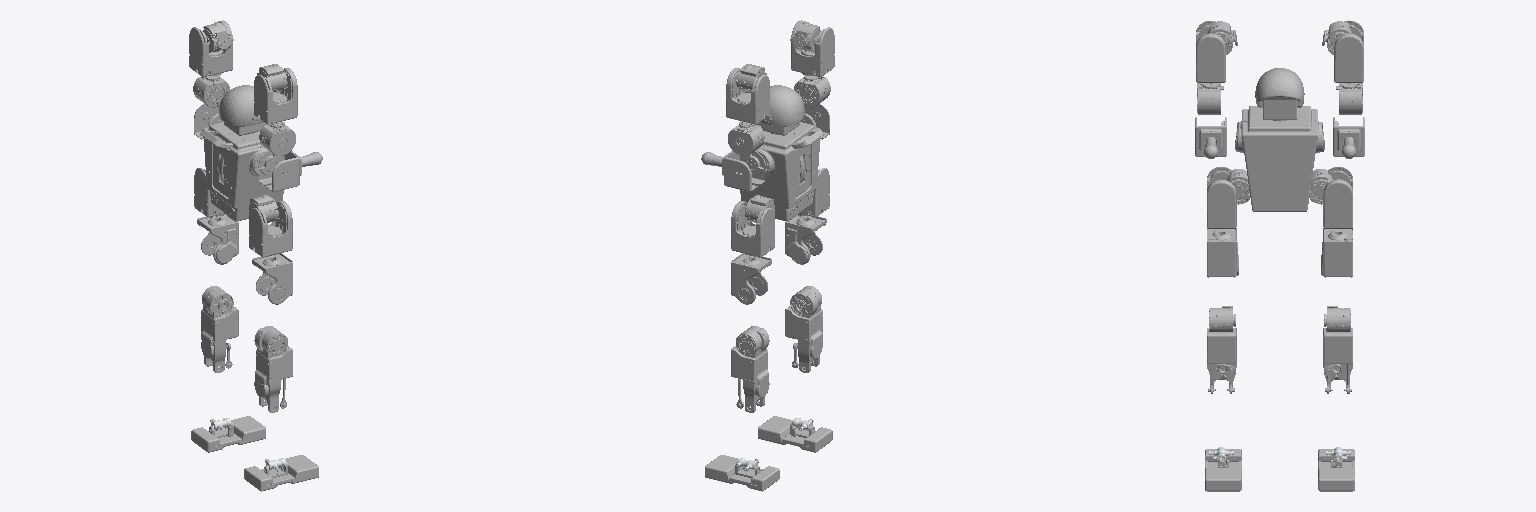
--- Render facts (derived) ---
The picture shows the robot from 3 angles, left to right: view 1: azimuth 30°, elevation 25°; view 2: azimuth 150°, elevation 25°; view 3: azimuth 270°, elevation 25°; orthographic projection.
Robot: lus2 — 29 links, 28 joints (28 revolute); root link pelvis; default pose: all joints at 0.
Links seen in each view (by area): view 1: torso_link, right_knee_link, left_knee_link, right_hip_roll_link, right_shoulder_roll_link, right_elbow_link, left_ankle_roll_link, right_hip_yaw_link, right_ankle_roll_link, left_hip_yaw_link, left_shoulder_roll_link, right_shoulder_yaw_link (+4 smaller); view 2: torso_link, left_knee_link, right_knee_link, left_hip_roll_link, left_shoulder_roll_link, left_elbow_link, right_ankle_roll_link, left_hip_yaw_link, left_ankle_roll_link, right_hip_yaw_link, right_shoulder_roll_link, left_shoulder_yaw_link (+4 smaller); view 3: torso_link, left_knee_link, right_knee_link, left_hip_roll_link, right_hip_roll_link, left_shoulder_roll_link, right_shoulder_roll_link, right_hip_yaw_link, left_hip_yaw_link, right_ankle_roll_link, left_ankle_roll_link, right_elbow_link (+3 smaller).
Link boxes in pixels (bbox=[...]): torso_link: bbox=[200, 85, 283, 221]; right_knee_link: bbox=[254, 326, 292, 412]; left_knee_link: bbox=[201, 286, 238, 372]; right_hip_roll_link: bbox=[249, 201, 292, 257]; right_shoulder_roll_link: bbox=[254, 68, 297, 124]; right_elbow_link: bbox=[259, 151, 322, 191]; left_ankle_roll_link: bbox=[191, 416, 265, 452]; right_hip_yaw_link: bbox=[252, 253, 292, 304]; right_ankle_roll_link: bbox=[244, 455, 318, 491]; left_hip_yaw_link: bbox=[197, 215, 238, 264]; left_shoulder_roll_link: bbox=[189, 20, 232, 76]; right_shoulder_yaw_link: bbox=[259, 121, 295, 155]; torso_link: bbox=[740, 85, 823, 220]; left_knee_link: bbox=[731, 326, 769, 412]; right_knee_link: bbox=[785, 286, 822, 372]; left_hip_roll_link: bbox=[731, 201, 774, 257]; left_shoulder_roll_link: bbox=[726, 68, 769, 124]; left_elbow_link: bbox=[701, 151, 764, 191]; right_ankle_roll_link: bbox=[758, 416, 832, 452]; left_hip_yaw_link: bbox=[731, 253, 771, 304]; left_ankle_roll_link: bbox=[705, 455, 779, 491]; right_hip_yaw_link: bbox=[785, 214, 826, 264]; right_shoulder_roll_link: bbox=[791, 20, 834, 76]; left_shoulder_yaw_link: bbox=[728, 121, 764, 155]; torso_link: bbox=[1235, 68, 1324, 211]; left_knee_link: bbox=[1323, 306, 1352, 393]; right_knee_link: bbox=[1207, 306, 1236, 393]; left_hip_roll_link: bbox=[1323, 167, 1352, 228]; right_hip_roll_link: bbox=[1207, 167, 1236, 228]; left_shoulder_roll_link: bbox=[1334, 20, 1363, 82]; right_shoulder_roll_link: bbox=[1196, 21, 1225, 82]; right_hip_yaw_link: bbox=[1207, 228, 1238, 277]; left_hip_yaw_link: bbox=[1321, 228, 1352, 277]; right_ankle_roll_link: bbox=[1205, 449, 1241, 491]; left_ankle_roll_link: bbox=[1318, 449, 1354, 491]; right_elbow_link: bbox=[1195, 117, 1226, 158].
Bounding box of the posed robot: 0.2789 × 0.4659 × 1.35 m (x, y, z).
Meshes: 29 distinct files referenced, 21 mesh visuals loaded (21 binary STL); not drawn: 8 (reference not matched to a file when rendering).

URDF robot description (lus2):
<?xml version="1.0" encoding="utf-8"?>
<!-- This URDF was automatically created by SolidWorks to URDF Exporter! Originally created by Stephen Brawner ([email redacted]) 
     Commit Version: 1.6.0-4-g7f85cfe  Build Version: 1.6.7995.38578
     For more information, please see http://wiki.ros.org/sw_urdf_exporter -->
<robot name="lus2">
  <mujoco>
        <compiler meshdir="../meshes" discardvisual="false" />
  </mujoco>
  
  <!-- <link name="base">
    <inertial>
      <origin xyz="0 0 0" rpy="0 0 0" />
      <mass value="0.0001" />
      <inertia
        ixx="0.0000000"
        ixy="0.0000000"
        ixz="0.0000000"
        iyy="0.0000000"
        iyz="0.0000000"
        izz="0.0000000" />
    </inertial>
    <visual>
      <origin xyz="0 0 0" rpy="0 0 0" />
      <geometry>
        <box size = "0.001 0.001 0.001"/>
      </geometry>
      <material name="a">
        <color rgba="0.752941176470588 0.752941176470588 0.752941176470588 1" />
      </material>
    </visual>
    <collision>
      <origin xyz="0 0 0" rpy="0 0 0" />
      <geometry>
        <box size = "0.001 0.001 0.001"/>
      </geometry>
    </collision>
  </link>

  <joint name="floating_base_joint" type="fixed">
    <origin xyz="0 0 0" rpy="0 0 0" />
    <parent link="base" />
    <child link="pelvis" />
  </joint> -->

  <link name="pelvis">
    <inertial>
      <origin xyz="-3.1659855E-03  0.0000000 -1.0930236E-01" rpy="0 0 0" />
      <mass value="6.7964049" />
      <inertia
        ixx="3.9641975E-02"
        ixy="0.0000000"
        ixz="1.2568204E-03"
        iyy="3.5762219E-02"
        iyz="0.0000000"
        izz="2.2011165E-02" />
    </inertial>
    <visual>
      <origin xyz="0 0 0" rpy="0 0 0" />
      <geometry>
        <mesh filename="package://lus2/meshes/pelvis.STL" />
      </geometry>
      <material name="a">
        <color rgba="0.752941176470588 0.752941176470588 0.752941176470588 1" />
      </material>
    </visual>
    <!-- <collision>
      <origin xyz="0 0 0" rpy="0 0 0" />
      <geometry>
        <mesh filename="package://lus2/meshes/pelvis.STL" />
      </geometry>
    </collision> -->
    <collision>
      <origin xyz="0 0 -0.1" rpy="0 0 0" />
      <geometry>
        <cylinder radius="0.0572" length="0.1883" />
      </geometry>
    </collision>
  </link>

  <link name="left_hip_pitch_link">
    <inertial>
      <origin xyz="-2.0168256E-02  8.2216101E-02  0.0000000" rpy="0 0 0" />
      <mass value="2.4277335" />
      <inertia
        ixx="6.1432167E-03"
        ixy="4.8775061E-04"
        ixz="0.0000000"
        iyy="3.6201357E-03"
        iyz="0.0000000"
        izz="5.1618570E-03" />
    </inertial>
    <visual>
      <origin xyz="0 0 0" rpy="0 0 0" />
      <geometry>
        <mesh filename="package://lus2/meshes/left_hip_pitch_link.STL" />
      </geometry>
      <material name="a">
        <color rgba="0.752941176470588 0.752941176470588 0.752941176470588 1" />
      </material>
    </visual>
    <collision>
      <origin xyz="0 0 0" rpy="0 0 0" />
      <geometry>
        <mesh filename="package://lus2/meshes/left_hip_pitch_link.STL" />
      </geometry>
    </collision>
  </link>

  <joint name="left_hip_pitch_joint" type="revolute">
    <origin xyz="0 0.068 -0.156" rpy="0 0 0" />
    <parent link="pelvis" />
    <child link="left_hip_pitch_link" />
    <axis xyz="0 1 0" />
    <limit lower="-2.617" upper="2.617" effort="300" velocity="12" />
  </joint>

  <link name="left_hip_roll_link">
    <inertial>
      <origin xyz="-2.3116200E-03 -3.6364046E-04 -8.1422005E-02" rpy="0 0 0" />
      <mass value="3.1551632" />
      <inertia
        ixx="1.2134241E-02"
        ixy="-4.1927788E-05"
        ixz="-1.9137034E-03"
        iyy="1.1479866E-02"
        iyz="-1.2177975E-04"
        izz="7.1752202E-03" />
    </inertial>
    <visual>
      <origin xyz="0 0 0" rpy="0 0 0" />
      <geometry>
        <mesh filename="package://lus2/meshes/left_hip_roll_link.STL" />
      </geometry>
      <material name="a">
        <color rgba="0.752941176470588 0.752941176470588 0.752941176470588 1" />
      </material>
    </visual>
    <collision>
      <origin xyz="0 0 0" rpy="0 0 0" />
      <geometry>
        <mesh filename="package://lus2/meshes/left_hip_roll_link.STL" />
      </geometry>
    </collision>
  </link>

  <joint name="left_hip_roll_joint" type="revolute">
    <origin xyz="0 0.092 0" rpy="0 0 0" />
    <parent link="left_hip_pitch_link" />
    <child link="left_hip_roll_link" />
    <axis xyz="1 0 0" />
    <limit lower="-0.25" upper="2.8" effort="300" velocity="12" />
  </joint>

  <link name="left_hip_yaw_link">
    <inertial>
      <origin xyz="6.4280485E-03 -3.5846370E-03 -1.8449587E-01" rpy="0 0 0" />
      <mass value="3.3522325" />
      <inertia
        ixx="3.8105084E-02"
        ixy="-7.7153373E-05"
        ixz="-7.3176284E-04"
        iyy="3.9597910E-02"
        iyz="-9.0739735E-04"
        izz="7.1960830E-03" />
    </inertial>
    <visual>
      <origin xyz="0 0 0" rpy="0 0 0" />
      <geometry>
        <mesh filename="package://lus2/meshes/left_hip_yaw_link.STL" />
      </geometry>
      <material name="a">
        <color rgba="0.752941176470588 0.752941176470588 0.752941176470588 1" />
      </material>
    </visual>
    <collision>
      <origin xyz="0 0 0" rpy="0 0 0" />
      <geometry>
        <mesh filename="package://lus2/meshes/left_hip_yaw_link.STL" />
      </geometry>
    </collision>
  </link>

  <joint name="left_hip_yaw_joint" type="revolute">
    <origin xyz="0 0 -0.1395" rpy="0 0 0" />
    <parent link="left_hip_roll_link" />
    <child link="left_hip_yaw_link" />
    <axis xyz="0 0 1" />
    <limit lower="-1.2" upper="2.6" effort="300" velocity="12" />
  </joint>

  <link name="left_knee_link">
    <inertial>
      <origin xyz="9.7804057e-03 -1.2159820e-03 -1.1000733e-01" rpy="0 0 0" />
      <mass value="5.3828222" />
      <inertia
        ixx="7.1014736e-02"
        ixy="-6.3321397e-05"
        ixz="9.4868042e-04"
        iyy="7.2059618e-02"
        iyz="1.0601703e-03"
        izz="8.1731788e-03" />
    </inertial>
    <visual>
      <origin xyz="0 0 0" rpy="0 0 0" />
      <geometry>
        <mesh filename="package://lus2/meshes/left_knee_link.STL" />
      </geometry>
      <material name="a">
        <color rgba="0.752941176470588 0.752941176470588 0.752941176470588 1" />
      </material>
    </visual>
    <collision>
      <origin xyz="0 0 0" rpy="0 0 0" />
      <geometry>
        <mesh filename="package://lus2/meshes/left_knee_link.STL" />
      </geometry>
    </collision>
  </link>

  <joint name="left_knee_joint" type="revolute">
    <origin xyz="0 0 -0.26" rpy="0 0 0" />
    <parent link="left_hip_yaw_link" />
    <child link="left_knee_link" />
    <axis xyz="0 1 0" />
    <limit lower="0.0" upper="2.27" effort="300" velocity="12" />
  </joint>

  <link name="left_ankle_pitch_link">
    <inertial>
      <origin xyz="-3.1002626e-04  1.1061714e-05 -4.2515953e-03" rpy="0 0 0" />
      <mass value="1.6375855e-01" />
      <inertia
        ixx="5.5690573e-05"
        ixy="-2.3322493e-10"
        ixz="-3.1117387e-07"
        iyy="2.3118959e-05"
        iyz="4.0748259e-10"
        izz="5.5144716e-05" />
    </inertial>
    <visual>
      <origin xyz="0 0 0" rpy="0 0 0" />
      <geometry>
        <mesh filename="package://lus2/meshes/left_ankle_pitch_link.STL" />
      </geometry>
      <material name="a">
        <color rgba="0.898039215686275 0.917647058823529 0.929411764705882 1" />
      </material>
    </visual>
    <collision>
      <origin xyz="0 0 0" rpy="0 0 0" />
      <geometry>
        <mesh filename="package://lus2/meshes/left_ankle_pitch_link.STL" />
      </geometry>
    </collision>
  </link>

  <joint name="left_ankle_pitch_joint" type="revolute">
    <origin xyz="0 0 -0.4" rpy="0 0 0" />
    <parent link="left_knee_link" />
    <child link="left_ankle_pitch_link" />
    <axis xyz="0 1 0" />
    <limit lower="-0.698" upper="0.49" effort="200" velocity="20" />
  </joint>

  <link name="left_ankle_roll_link">
    <inertial>
      <origin xyz="1.7804206e-02  0.0000000e+00 -2.2944985e-02" rpy="0 0 0" />
      <mass value="3.2840177e-01" />
      <inertia
        ixx="2.3276192e-04"
        ixy="0.0000000"
        ixz="9.9000753e-05"
        iyy="1.3849144e-03"
        iyz="0.0000000"
        izz="1.4703900e-03" />
    </inertial>
    <visual>
      <origin xyz="0 0 0" rpy="0 0 0" />
      <geometry>
        <mesh filename="package://lus2/meshes/left_ankle_roll_link.STL" />
      </geometry>
      <material name="a">
        <color rgba="0.752941176470588 0.752941176470588 0.752941176470588 1" />
      </material>
    </visual>
    <!-- <collision>
      <origin xyz="0 0 0" rpy="0 0 0" />
      <geometry>
        <mesh filename="package://lus2/meshes/left_ankle_roll_link.STL" />
      </geometry>
    </collision> -->
    <collision>
      <origin xyz="0.025 0 -0.02585" rpy="0 0 0" />
      <geometry>
        <box size = "0.235 0.073 0.0143"/>
      </geometry>
    </collision>
  </link>

  <joint name="left_ankle_roll_joint" type="revolute">
    <origin xyz="0 0 -0.01" rpy="0 0 0" />
    <parent link="left_ankle_pitch_link" />
    <child link="left_ankle_roll_link" />
    <axis xyz="1 0 0" />
    <limit lower="-0.43" upper="0.43" effort="200" velocity="20" />
  </joint>

  <link name="right_hip_pitch_link">
    <inertial>
      <origin xyz="-2.0168256E-02 -8.2216101E-02  0.0000000" rpy="0 0 0" />
      <mass value="2.4277335" />
      <inertia
        ixx="6.1432167E-03"
        ixy="-4.8775061E-04"
        ixz="0.0000000"
        iyy="3.6201357E-03"
        iyz="0.0000000"
        izz="5.1618570E-03" />
    </inertial>
    <visual>
      <origin xyz="0 0 0" rpy="0 0 0" />
      <geometry>
        <mesh filename="package://lus2/meshes/right_hip_pitch_link.STL" />
      </geometry>
      <material name="a">
        <color rgba="0.752941176470588 0.752941176470588 0.752941176470588 1" />
      </material>
    </visual>
    <collision>
      <origin xyz="0 0 0"  rpy="0 0 0" />
      <geometry>
        <mesh filename="package://lus2/meshes/right_hip_pitch_link.STL" />
      </geometry>
    </collision>
  </link>

  <joint name="right_hip_pitch_joint" type="revolute">
    <origin xyz="0 -0.068 -0.156" rpy="0 0 0" />
    <parent link="pelvis" />
    <child link="right_hip_pitch_link" />
    <axis xyz="0 1 0" />
    <limit lower="-2.617" upper="2.617" effort="300" velocity="12" />
  </joint>

  <link name="right_hip_roll_link">
    <inertial>
      <origin xyz="-2.3116409E-03  3.6367554E-04 -8.1422055E-02" rpy="0 0 0" />
      <mass value="3.1551628" />
      <inertia
        ixx="1.2134227E-02"
        ixy="4.1929406E-05"
        ixz="-1.9137018E-03"
        iyy="1.1479853E-02"
        iyz="1.2177538E-04"
        izz="7.1752213E-03" />
    </inertial>
    <visual>
      <origin xyz="0 0 0" rpy="0 0 0" />
      <geometry>
        <mesh filename="package://lus2/meshes/right_hip_roll_link.STL" />
      </geometry>
      <material name="a">
        <color rgba="0.752941176470588 0.752941176470588 0.752941176470588 1" />
      </material>
    </visual>
    <collision>
      <origin xyz="0 0 0" rpy="0 0 0" />
      <geometry>
        <mesh filename="package://lus2/meshes/right_hip_roll_link.STL" />
      </geometry>
    </collision>
  </link>

  <joint name="right_hip_roll_joint" type="revolute">
    <origin  xyz="0 -0.092 0" rpy="0 0 0" />
    <parent link="right_hip_pitch_link" />
    <child link="right_hip_roll_link" />
    <axis xyz="1 0 0" />
    <limit lower="-2.8" upper="0.25" effort="300" velocity="12" />
  </joint>

  <link name="right_hip_yaw_link">
    <inertial>
      <origin xyz="6.4280485E-03  3.5846369E-03 -1.8449587E-01" rpy="0 0 0" />
      <mass value="3.3522326" />
      <inertia
        ixx="3.8105084E-02"
        ixy="7.7153371E-05"
        ixz="-7.3176284E-04"
        iyy="3.9597910E-02"
        iyz="9.0739735E-04"
        izz="7.1960830E-03" />
    </inertial>
    <visual>
      <origin xyz="0 0 0" rpy="0 0 0" />
      <geometry>
        <mesh filename="package://lus2/meshes/right_hip_yaw_link.STL" />
      </geometry>
      <material name="a">
        <color rgba="0.752941176470588 0.752941176470588 0.752941176470588 1" />
      </material>
    </visual>
    <collision>
      <origin xyz="0 0 0" rpy="0 0 0" />
      <geometry>
        <mesh filename="package://lus2/meshes/right_hip_yaw_link.STL" />
      </geometry>
    </collision>
  </link>

  <joint name="right_hip_yaw_joint" type="revolute">
    <origin xyz="0 0 -0.1395" rpy="0 0 0" />
    <parent link="right_hip_roll_link" />
    <child link="right_hip_yaw_link" />
    <axis xyz="0 0 1" />
    <limit lower="-2.6" upper="1.2" effort="300" velocity="12" />
  </joint>

  <link name="right_knee_link">
    <inertial>
      <origin xyz="9.7804052e-03  1.2159799e-03 -1.1000734e-01" rpy="0 0 0" />
      <mass value="5.3828227" />
      <inertia
        ixx="7.1014747e-02"
        ixy="6.3321335e-05"
        ixz="9.4868006e-04"
        iyy="7.2059629e-02"
        iyz="-1.0601720e-03"
        izz="8.1731791e-03" />
    </inertial>
    <visual>
      <origin xyz="0 0 0" rpy="0 0 0" />
      <geometry>
        <mesh filename="package://lus2/meshes/right_knee_link.STL" />
      </geometry>
      <material name="a">
        <color rgba="0.752941176470588 0.752941176470588 0.752941176470588 1" />
      </material>
    </visual>
    <collision>
      <origin xyz="0 0 0" rpy="0 0 0" />
      <geometry>
        <mesh filename="package://lus2/meshes/right_knee_link.STL" />
      </geometry>
    </collision>
  </link>

  <joint name="right_knee_joint" type="revolute">
    <origin xyz="0 0 -0.26" rpy="0 0 0" />
    <parent link="right_hip_yaw_link" />
    <child link="right_knee_link" />
    <axis xyz="0 1 0" />
    <limit lower="0.0" upper="2.27" effort="300" velocity="12" />
  </joint>

  <link name="right_ankle_pitch_link">
    <inertial>
      <origin xyz="-3.1002626e-04  1.1061714e-05 -4.2515953e-03" rpy="0 0 0" />
      <mass value="1.6375855e-01" />
      <inertia
        ixx="5.5690573e-05"
        ixy="-2.3322493e-10"
        ixz="-3.1117387e-07"
        iyy="2.3118959e-05"
        iyz="4.0748259e-10"
        izz="5.5144716e-05" />
    </inertial>
    <visual>
      <origin xyz="0 0 0" rpy="0 0 0" />
      <geometry>
        <mesh filename="package://lus2/meshes/right_ankle_pitch_link.STL" />
      </geometry>
      <material name="a">
        <color rgba="0.898039215686275 0.917647058823529 0.929411764705882 1" />
      </material>
    </visual>
    <collision>
      <origin xyz="0 0 0" rpy="0 0 0" />
      <geometry>
        <mesh filename="package://lus2/meshes/right_ankle_pitch_link.STL" />
      </geometry>
    </collision>
  </link>

  <joint name="right_ankle_pitch_joint" type="revolute">
    <origin xyz="0 0 -0.4" rpy="0 0 0" />
    <parent link="right_knee_link" />
    <child link="right_ankle_pitch_link" />
    <axis xyz="0 1 0" />
    <limit lower="-0.698" upper="0.49" effort="200" velocity="20" />
  </joint>

  <link name="right_ankle_roll_link">
    <inertial>
      <origin xyz="1.7804206e-02  0.0000000e+00 -2.2944985e-02" rpy="0 0 0" />
      <mass value="3.2840177e-01" />
      <inertia
        ixx="2.3276192e-04"
        ixy="0.0000000"
        ixz="9.9000753e-05"
        iyy="1.3849144e-03"
        iyz="0.0000000"
        izz="1.4703900e-03" />
    </inertial>
    <visual>
      <origin xyz="0 0 0" rpy="0 0 0" />
      <geometry>
        <mesh filename="package://lus2/meshes/right_ankle_roll_link.STL" />
      </geometry>
      <material name="a">
        <color rgba="0.752941176470588 0.752941176470588 0.752941176470588 1" />
      </material>
    </visual>
    <!-- <collision>
      <origin xyz="0 0 0" rpy="0 0 0" />
      <geometry>
        <mesh filename="package://lus2/meshes/right_ankle_roll_link.STL" />
      </geometry>
    </collision> -->
    <collision>
      <origin xyz="0.025 0 -0.02585" rpy="0 0 0" />
      <geometry>
        <box size = "0.235 0.073 0.0143"/>
      </geometry>
    </collision>
  </link>

  <joint name="right_ankle_roll_joint" type="revolute">
    <origin xyz="0 0 -0.01" rpy="0 0 0" />
    <parent link="right_ankle_pitch_link" />
    <child link="right_ankle_roll_link" />
    <axis xyz="1 0 0" />
    <limit lower="-0.43" upper="0.43" effort="200" velocity="20" />
  </joint>

  <link name="torso_link">
    <inertial>
      <origin xyz="-2.3606484E-03  2.8289136E-04  2.3074545E-01" rpy="0 0 0" />
      <mass value="1.0563174E+01" />
      <inertia
        ixx="1.3744844E-01"
        ixy="1.3568744E-04"
        ixz="5.7196351E-03"
        iyy="1.1331419E-01"
        iyz="-4.6372000E-04"
        izz="6.5891007E-02" />
    </inertial>
    <visual>
      <origin xyz="0 0 0" rpy="0 0 0" />
      <geometry>
        <mesh filename="package://lus2/meshes/torso_link.STL" />
      </geometry>
      <material name="a">
        <color rgba="0.752941176470588 0.752941176470588 0.752941176470588 1" />
      </material>
    </visual>
    <collision>
      <origin xyz="0 0 0" rpy="0 0 0" />
      <geometry>
        <mesh filename="package://lus2/meshes/torso_link.STL" />
      </geometry>
    </collision>
  </link>

  <joint name="torso_joint" type="revolute">
    <origin xyz="0 0 0" rpy="0 0 0" />
    <parent link="pelvis" />
    <child link="torso_link" />
    <axis xyz="0 0 1" />
    <limit lower="-3" upper="3" effort="300" velocity="12" />
  </joint>

  <link name="head_link">
    <inertial>
      <origin xyz="0.00822737744778477 -0.000198850473705812 0.107120349130616" rpy="0 0 0" />
      <mass value="1.02775179782002" />
      <inertia
        ixx="0.00169703133506373"
        ixy="2.89967965428031E-07"
        ixz="0.000184215223504519"
        iyy="0.00191732132579063"
        iyz="1.69965812692335E-07"
        izz="0.00219567889747987" />
    </inertial>
    <visual>
      <origin xyz="0 0 0" rpy="0 0 0" />
      <geometry>
        <mesh filename="package://lus2/meshes/head_link.STL" />
      </geometry>
      <material name="a">
        <color rgba="0.752941176470588 0.752941176470588 0.752941176470588 1" />
      </material>
    </visual>
    <collision>
      <origin xyz="0 0 0" rpy="0 0 0" />
      <geometry>
        <mesh filename="package://lus2/meshes/head_link.STL" />
      </geometry>
    </collision>
  </link>

  <joint name="head_joint" type="revolute">
    <origin xyz="0 0 0.3875" rpy="0 0 0" />
    <parent link="torso_link" />
    <child link="head_link" />
    <axis xyz="0 0 1" />
    <limit lower="-1.3" upper="1.3" effort="20" velocity="20" />
  </joint>

  <link name="left_shoulder_pitch_link">
    <inertial>
      <origin xyz="-0.0254613668140268 0.0534577956198457 -5.75838734862E-07" rpy="0 0 0" />
      <mass value="0.173114536540602" />
      <inertia
        ixx="0.000191687053531479"
        ixy="2.42906935657343E-05"
        ixz="1.77380081012811E-09"
        iyy="9.66644010132902E-05"
        iyz="-2.75063833372514E-10"
        izz="0.000152138542652527" />
    </inertial>
    <visual>
      <origin xyz="0 0 0" rpy="0 0 0" />
      <geometry>
        <mesh filename="package://lus2/meshes/left_shoulder_pitch_link.STL" />
      </geometry>
      <material name="a">
        <color rgba="0.752941176470588 0.752941176470588 0.752941176470588 1" />
      </material>
    </visual>
    <collision>
      <origin xyz="0 0 0" rpy="0 0 0" />
      <geometry>
        <mesh filename="package://lus2/meshes/left_shoulder_pitch_link.STL" />
      </geometry>
    </collision>
  </link>

  <joint name="left_shoulder_pitch_joint" type="revolute">
    <origin xyz="0 0.12095 0.29712" rpy="-0.17453 0 0" />
    <parent link="torso_link" />
    <child link="left_shoulder_pitch_link" />
    <axis xyz="0 1 0" />
    <limit lower="-3" upper="3" effort="100" velocity="20" />
  </joint>

  <link name="left_shoulder_roll_link">
    <inertial>
      <origin xyz="0.00112285890248779 -4.52208530434817E-05 -0.0679750283894044" rpy="0 0 0" />
      <mass value="0.364744656002893" />
      <inertia
        ixx="0.000923518668388584"
        ixy="5.04296697925665E-07"
        ixz="2.25167739325528E-05"
        iyy="0.000788400342395255"
        iyz="1.36824863894953E-06"
        izz="0.000366315545465091" />
    </inertial>
    <visual>
      <origin xyz="0 0 0" rpy="0 0 0" />
      <geometry>
        <mesh filename="package://lus2/meshes/left_shoulder_roll_link.STL" />
      </geometry>
      <material name="a">
        <color rgba="0.752941176470588 0.752941176470588 0.752941176470588 1" />
      </material>
    </visual>
    <collision>
      <origin xyz="0 0 0" rpy="0 0 0" />
      <geometry>
        <mesh filename="package://lus2/meshes/left_shoulder_roll_link.STL" />
      </geometry>
    </collision>
  </link>

  <joint name="left_shoulder_roll_joint" type="revolute">
    <origin xyz="0 0.0695 0" rpy="0.17453 0 0" />
    <parent link="left_shoulder_pitch_link" />
    <child link="left_shoulder_roll_link" />
    <axis xyz="1 0 0" />
    <limit lower="-0.12" upper="2.3" effort="100" velocity="20" />
  </joint>

  <link name="left_shoulder_yaw_link">
    <inertial>
      <origin xyz="-0.00081064 -0.00072673 -0.10583686" rpy="0 0 0"/>
      <mass value="1.12432170"/>
      <inertia 
        ixx="0.00383455" 
        ixy="-0.00000298" 
        ixz="0.00002579" 
        iyy="0.00391958" 
        iyz="-0.00002774" 
        izz="0.00072349"/>
    </inertial>
    <visual>
      <origin xyz="0 0 0" rpy="0 0 0" />
      <geometry>
        <mesh filename="package://lus2/meshes/left_shoulder_yaw_link.STL" />
      </geometry>
      <material name="a">
        <color rgba="0.752941176470588 0.752941176470588 0.752941176470588 1" />
      </material>
    </visual>
    <collision>
      <origin xyz="0 0 0" rpy="0 0 0" />
      <geometry>
        <mesh filename="package://lus2/meshes/left_shoulder_yaw_link.STL" />
      </geometry>
    </collision>
  </link>

  <joint name="left_shoulder_yaw_joint" type="revolute">
    <origin xyz="0 0 -0.13" rpy="0 0 0" />
    <parent link="left_shoulder_roll_link" />
    <child link="left_shoulder_yaw_link" />
    <axis xyz="0 0 1" />
    <limit lower="-1.9" upper="1.9" effort="100" velocity="20" />
  </joint>

  <link name="left_elbow_link">
    <inertial>
      <origin xyz="-0.00152308 -0.00155026 -0.06686462" rpy="0 0 0"/>
      <mass value="0.59309890"/>
      <inertia 
        ixx="0.00083688" 
        ixy="0.00000152" 
        ixz="-0.00004431" 
        iyy="0.00081031" 
        iyz="-0.00003429" 
        izz="0.00047704"/>
    </inertial>
    <visual>
      <origin xyz="0 0 0" rpy="0 0 0" />
      <geometry>
        <mesh filename="package://lus2/meshes/left_elbow_link.STL" />
      </geometry>
      <material name="a">
        <color rgba="0.752941176470588 0.752941176470588 0.752941176470588 1" />
      </material>
    </visual>
    <collision>
      <origin xyz="0 0 0" rpy="0 0 0" />
      <geometry>
        <mesh filename="package://lus2/meshes/left_elbow_link.STL" />
      </geometry>
    </collision>
  </link>

  <joint name="left_elbow_joint" type="revolute">
    <origin xyz="0 0 -0.14" rpy="0 -1.57 0" />
    <parent link="left_shoulder_yaw_link" />
    <child link="left_elbow_link" />
    <axis xyz="0 1 0" />
    <limit lower="-0.83" upper="1.57" effort="100" velocity="20" />
  </joint>

  <link name="left_wrist_yaw_link">
    <inertial>
      <origin xyz="0.00020795 -0.00477305 -0.06596393" rpy="0 0 0"/>
      <mass value="0.36396026"/>
      <inertia 
        ixx="0.00013304" 
        ixy="0.00000160" 
        ixz="0.00000051" 
        iyy="0.00019202" 
        iyz="0.00000053" 
        izz="0.00013151"/>
    </inertial>
    <visual>
      <origin xyz="0 0 0" rpy="0 0 0" />
      <geometry>
        <mesh filename="package://lus2/meshes/left_wrist_yaw_link.STL" />
      </geometry>
      <material name="a">
        <color rgba="0.752941176470588 0.752941176470588 0.752941176470588 1" />
      </material>
    </visual>
    <collision>
      <origin xyz="0 0 0" rpy="0 0 0" />
      <geometry>
        <mesh filename="package://lus2/meshes/left_wrist_yaw_link.STL" />
      </geometry>
    </collision>
  </link>

  <joint name="left_wrist_yaw_joint" type="revolute">
    <origin xyz="0 0 -0.0955" rpy="0 0 0" />
    <parent link="left_elbow_link" />
    <child link="left_wrist_yaw_link" />
    <axis xyz="0 0 1" />
    <limit lower="-2.3" upper="2.3" effort="20" velocity="20" />
  </joint>

  <link name="left_wrist_pitch_link">
    <inertial>
      <origin xyz="-0.00480941 -0.00060521 -0.05825035" rpy="0 0 0"/>
      <mass value="0.47109798"/>
      <inertia 
        ixx="0.00038629" 
        ixy="-0.00000194" 
        ixz="0.00001573" 
        iyy="0.00031470" 
        iyz="-0.00001188" 
        izz="0.00023291"/>
    </inertial>
    <visual>
      <origin xyz="0 0 0" rpy="0 0 0" />
      <geometry>
        <mesh filename="package://lus2/meshes/left_wrist_pitch_link.STL" />
      </geometry>
      <material name="a">
        <color rgba="0.752941176470588 0.752941176470588 0.752941176470588 1" />
      </material>
    </visual>
    <collision>
      <origin xyz="0 0 0" rpy="0 0 0" />
      <geometry>
        <mesh filename="package://lus2/meshes/left_wrist_pitch_link.STL" />
      </geometry>
    </collision>
  </link>

  <joint name="left_wrist_pitch_joint" type="revolute">
    <origin xyz="0 0 -0.0645" rpy="0 0 0" />
    <parent link="left_wrist_yaw_link" />
    <child link="left_wrist_pitch_link" />
    <axis xyz="0 1 0" />
    <limit lower="-1.2" upper="1.2" effort="20" velocity="20" />
  </joint>

  <link name="left_wrist_roll_link">
    <inertial>
      <origin xyz="0.01916043 -0.00000117 -0.02394803" rpy="0 0 0" />
      <mass value="0.0380932" />
      <inertia
        ixx="0.00001604"
        ixy="0.00000000"
        ixz="0.00000518"
        iyy="0.00002008"
        iyz="0.00000000"
        izz="0.00000997" />
    </inertial>
    <visual>
      <origin xyz="0 0 0" rpy="0 0 0" />
      <geometry>
        <mesh filename="package://lus2/meshes/left_wrist_roll_link.STL" />
      </geometry>
      <material name="a">
        <color rgba="0.752941176470588 0.752941176470588 0.752941176470588 1" />
      </material>
    </visual>
    <collision>
      <origin xyz="0 0 0" rpy="0 0 0" />
      <geometry>
        <mesh filename="package://lus2/meshes/left_wrist_roll_link.STL" />
      </geometry>
    </collision>
  </link>

  <joint name="left_wrist_roll_joint" type="revolute">
    <origin xyz="0 0 -0.068" rpy="0 0 0" />
    <parent link="left_wrist_pitch_link" />
    <child link="left_wrist_roll_link" />
    <axis xyz="1 0 0" />
    <limit lower="-1.2" upper="1.2" effort="20" velocity="20" />
  </joint>

  <link name="right_shoulder_pitch_link">
    <inertial>
      <origin xyz="-0.0254613737714933 -0.0534578057038241 6.93877064139592E-07" rpy="0 0 0" />
      <mass value="0.173115302786264" />
      <inertia
        ixx="0.00019169099935434"
        ixy="-2.42907083295139E-05"
        ixz="-1.89395390017782E-09"
        iyy="9.66676265958145E-05"
        iyz="-1.26879061150862E-09"
        izz="0.000152139830694985" />
    </inertial>
    <visual>
      <origin xyz="0 0 0" rpy="0 0 0" />
      <geometry>
        <mesh filename="package://lus2/meshes/right_shoulder_pitch_link.STL" />
      </geometry>
      <material name="a">
        <color rgba="0.752941176470588 0.752941176470588 0.752941176470588 1" />
      </material>
    </visual>
    <collision>
      <origin xyz="0 0 0" rpy="0 0 0" />
      <geometry>
        <mesh filename="package://lus2/meshes/right_shoulder_pitch_link.STL" />
      </geometry>
    </collision>
  </link>

  <joint name="right_shoulder_pitch_joint" type="revolute">
    <origin xyz="0 -0.12095 0.29712" rpy="0.17453 0 0" />
    <parent link="torso_link" />
    <child link="right_shoulder_pitch_link" />
    <axis xyz="0 1 0" />
    <limit lower="-3" upper="3" effort="100" velocity="20" />
  </joint>

  <link name="right_shoulder_roll_link">
    <inertial>
      <origin xyz="0.00112483379593095 5.055150124747E-05 -0.0679738389009552" rpy="0 0 0" />
      <mass value="0.364801949403457" />
      <inertia
        ixx="0.000923570336615024"
        ixy="-5.05159888509568E-07"
        ixz="2.25075316131134E-05"
        iyy="0.000788452963484657"
        iyz="-1.36044203403311E-06"
        izz="0.000366326021471561" />
    </inertial>
    <visual>
      <origin xyz="0 0 0" rpy="0 0 0" />
      <geometry>
        <mesh filename="package://lus2/meshes/right_shoulder_roll_link.STL" />
      </geometry>
      <material name="a">
        <color rgba="0.752941176470588 0.752941176470588 0.752941176470588 1" />
      </material>
    </visual>
    <collision>
      <origin xyz="0 0 0" rpy="0 0 0" />
      <geometry>
        <mesh filename="package://lus2/meshes/right_shoulder_roll_link.STL" />
      </geometry>
    </collision>
  </link>

  <joint name="right_shoulder_roll_joint" type="revolute">
    <origin  xyz="0 -0.0695 0" rpy="-0.17453 0 0" />
    <parent link="right_shoulder_pitch_link" />
    <child link="right_shoulder_roll_link" />
    <axis xyz="1 0 0" />
    <limit lower="-2.3" upper="0.12" effort="100" velocity="20" />
  </joint>

  <link name="right_shoulder_yaw_link">
    <inertial>
      <origin xyz="-0.00081059 0.00072671 -0.10574900" rpy="0 0 0"/>
      <mass value="1.12432180"/>
      <inertia 
        ixx="0.00382779" 
        ixy="0.00000298" 
        ixz="0.00002519" 
        iyy="0.00391283" 
        iyz="0.00002786" 
        izz="0.00072349"/>
    </inertial>
    <visual>
      <origin xyz="0 0 0" rpy="0 0 0" />
      <geometry>
        <mesh filename="package://lus2/meshes/right_shoulder_yaw_link.STL" />
      </geometry>
      <material name="a">
        <color rgba="0.752941176470588 0.752941176470588 0.752941176470588 1" />
      </material>
    </visual>
    <collision>
      <origin xyz="0 0 0" rpy="0 0 0" />
      <geometry>
        <mesh filename="package://lus2/meshes/right_shoulder_yaw_link.STL" />
      </geometry>
    </collision>
  </link>

  <joint name="right_shoulder_yaw_joint" type="revolute">
    <origin  xyz="0 0 -0.13" rpy="0 0 0" />
    <parent link="right_shoulder_roll_link" />
    <child link="right_shoulder_yaw_link" />
    <axis xyz="0 0 1" />
    <limit lower="-1.9" upper="1.9" effort="100" velocity="20" />
  </joint>

  <link name="right_elbow_link">
    <inertial>
      <origin xyz="-0.00139017 0.00149140 -0.06686502" rpy="0 0 0"/>
      <mass value="0.59309105"/>
      <inertia 
        ixx="0.00083733" 
        ixy="-0.00000200" 
        ixz="-0.00004328" 
        iyy="0.00081017" 
        iyz="0.00003383" 
        izz="0.00047737"/>
    </inertial>
    <visual>
      <origin xyz="0 0 0" rpy="0 0 0" />
      <geometry>
        <mesh filename="package://lus2/meshes/right_elbow_link.STL" />
      </geometry>
      <material name="a">
        <color rgba="0.752941176470588 0.752941176470588 0.752941176470588 1" />
      </material>
    </visual>
    <collision>
      <origin xyz="0 0 0" rpy="0 0 0" />
      <geometry>
        <mesh filename="package://lus2/meshes/right_elbow_link.STL" />
      </geometry>
    </collision>
  </link>

  <joint name="right_elbow_joint" type="revolute">
    <origin xyz="0 0 -0.14" rpy="0 -1.57 0" />
    <parent link="right_shoulder_yaw_link" />
    <child link="right_elbow_link" />
    <axis xyz="0 1 0" />
    <limit lower="-0.83" upper="1.57" effort="100" velocity="20" />
  </joint>

  <link name="right_wrist_yaw_link">
    <inertial>
      <origin xyz="-0.00020795 0.00477305 -0.06596393" rpy="0 0 0"/>
      <mass value="0.36396026"/>
      <inertia 
        ixx="0.00013304" 
        ixy="0.00000160" 
        ixz="-0.00000051" 
        iyy="0.00019202" 
        iyz="-0.00000053" 
        izz="0.00013151"/>
    </inertial>
    <visual>
      <origin xyz="0 0 0" rpy="0 0 0" />
      <geometry>
        <mesh filename="package://lus2/meshes/right_wrist_yaw_link.STL" />
      </geometry>
      <material name="a">
        <color rgba="0.752941176470588 0.752941176470588 0.752941176470588 1" />
      </material>
    </visual>
    <collision>
      <origin xyz="0 0 0" rpy="0 0 0" />
      <geometry>
        <mesh filename="package://lus2/meshes/right_wrist_yaw_link.STL" />
      </geometry>
    </collision>
  </link>

  <joint name="right_wrist_yaw_joint" type="revolute">
    <origin xyz="0 0 -0.0955" rpy="0 0 0" />
    <parent link="right_elbow_link" />
    <child link="right_wrist_yaw_link" />
    <axis xyz="0 0 1" />
    <limit lower="-2.3" upper="2.3" effort="20" velocity="20" />
  </joint>

  <link name="right_wrist_pitch_link">
    <inertial>
      <origin xyz="-0.00480940 0.00036052 -0.05845800" rpy="0 0 0"/>
      <mass value="0.47109816"/>
      <inertia 
        ixx="0.00038770" 
        ixy="-0.00000034" 
        ixz="0.00001379" 
        iyy="0.00031500" 
        iyz="0.00001253" 
        izz="0.00023403"/>
    </inertial>
    <visual>
      <origin xyz="0 0 0" rpy="0 0 0" />
      <geometry>
        <mesh filename="package://lus2/meshes/right_wrist_pitch_link.STL" />
      </geometry>
      <material name="a">
        <color rgba="0.752941176470588 0.752941176470588 0.752941176470588 1" />
      </material>
    </visual>
    <collision>
      <origin xyz="0 0 0" rpy="0 0 0" />
      <geometry>
        <mesh filename="package://lus2/meshes/right_wrist_pitch_link.STL" />
      </geometry>
    </collision>
  </link>

  <joint name="right_wrist_pitch_joint" type="revolute">
    <origin xyz="0 0 -0.0645" rpy="0 0 0" />
    <parent link="right_wrist_yaw_link" />
    <child link="right_wrist_pitch_link" />
    <axis xyz="0 1 0" />
    <limit lower="-1.2" upper="1.2" effort="20" velocity="20" />
  </joint>

  <link name="right_wrist_roll_link">
   <inertial>
      <origin xyz="0.01916043 -0.00000117 -0.02394803" rpy="0 0 0" />
      <mass value="0.0380932" />
      <inertia
        ixx="0.00001604"
        ixy="0.00000000"
        ixz="0.00000518"
        iyy="0.00002008"
        iyz="0.00000000"
        izz="0.00000997" />
    </inertial>
    <visual>
      <origin xyz="0 0 0" rpy="0 0 0" />
      <geometry>
        <mesh filename="package://lus2/meshes/right_wrist_roll_link.STL" />
      </geometry>
      <material name="a">
        <color rgba="0.752941176470588 0.752941176470588 0.752941176470588 1" />
      </material>
    </visual>
    <collision>
      <origin xyz="0 0 0" rpy="0 0 0" />
      <geometry>
        <mesh filename="package://lus2/meshes/right_wrist_roll_link.STL" />
      </geometry>
    </collision>
  </link>

  <joint name="right_wrist_roll_joint" type="revolute">
    <origin xyz="0 0 -0.068" rpy="0 0 0" />
    <parent link="right_wrist_pitch_link" />
    <child link="right_wrist_roll_link" />
    <axis xyz="1 0 0" />
    <limit lower="-1.2" upper="1.2" effort="20" velocity="20" />
  </joint>
</robot>
